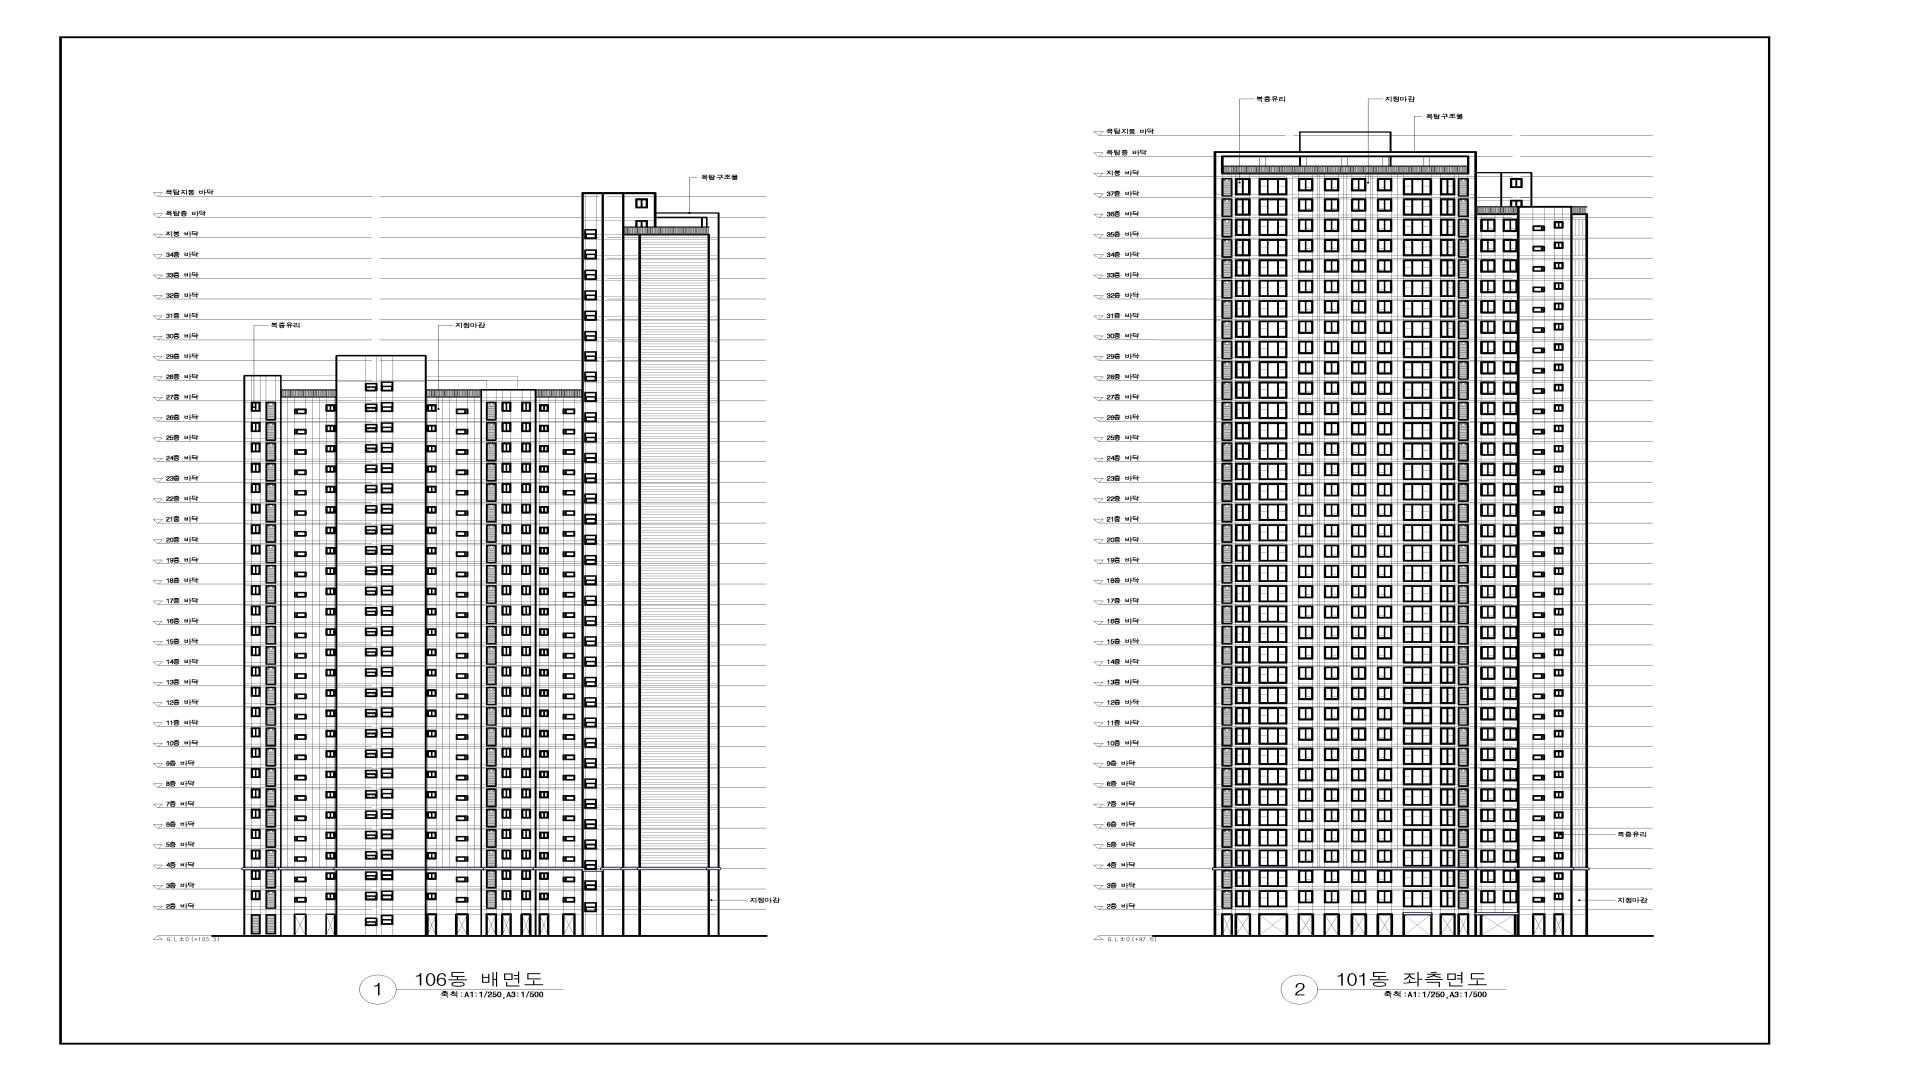door: (1480, 914, 1517, 935), (1258, 913, 1288, 935), (1402, 915, 1433, 935), (1297, 913, 1314, 935), (1323, 913, 1340, 935), (1350, 913, 1367, 935), (1376, 913, 1393, 935), (1235, 913, 1251, 935), (1440, 913, 1456, 935), (455, 913, 469, 936), (562, 913, 576, 936), (1532, 913, 1546, 935), (294, 914, 307, 936), (1457, 913, 1470, 935), (325, 913, 337, 936), (520, 913, 532, 936), (1221, 913, 1233, 935), (486, 913, 497, 936), (501, 913, 512, 936), (538, 913, 549, 936), (1553, 913, 1564, 935), (427, 913, 437, 936)
wall: (243, 192, 720, 937), (1214, 131, 1588, 937)
window: (1301, 155, 1391, 175), (1221, 155, 1300, 175), (1391, 155, 1469, 175), (1402, 381, 1432, 399), (1402, 442, 1432, 460), (1258, 259, 1288, 277), (1403, 198, 1432, 216), (1403, 259, 1432, 277), (1403, 300, 1432, 318), (1403, 361, 1432, 379), (1403, 503, 1432, 521), (1403, 524, 1432, 542), (1403, 544, 1432, 562), (1403, 605, 1432, 623), (1403, 646, 1432, 664), (1403, 666, 1432, 684), (1403, 707, 1432, 725), (1403, 727, 1432, 745), (1403, 788, 1432, 806), (1403, 849, 1432, 867), (1259, 198, 1288, 216), (1258, 300, 1287, 318), (1259, 320, 1288, 338), (1259, 361, 1288, 379), (1259, 422, 1288, 440), (1259, 483, 1288, 501), (1259, 524, 1288, 542), (1258, 544, 1287, 562), (1258, 768, 1287, 786), (1259, 788, 1288, 806), (1403, 483, 1433, 500), (1258, 280, 1288, 297), (1258, 341, 1288, 358), (1258, 443, 1288, 460), (1258, 504, 1288, 521), (1258, 667, 1288, 684), (1258, 687, 1288, 704), (1258, 707, 1288, 724), (1258, 178, 1288, 195), (1403, 219, 1432, 236), (1403, 239, 1432, 256), (1403, 280, 1432, 297), (1403, 321, 1432, 338), (1403, 341, 1432, 358), (1403, 402, 1432, 419), (1403, 422, 1432, 439), (1403, 463, 1432, 480), (1403, 565, 1432, 582), (1403, 585, 1432, 602), (1403, 626, 1432, 643), (1403, 687, 1432, 704), (1403, 748, 1432, 765), (1403, 768, 1432, 785), (1403, 809, 1432, 826), (1403, 829, 1432, 846), (1403, 870, 1432, 887), (1403, 890, 1432, 907), (1259, 219, 1288, 236), (1259, 239, 1288, 256), (1259, 382, 1288, 399), (1258, 402, 1287, 419), (1259, 463, 1288, 480), (1259, 565, 1288, 582), (1259, 585, 1288, 602), (1259, 606, 1288, 623), (1259, 626, 1288, 643), (1259, 646, 1288, 663), (1259, 728, 1288, 745), (1258, 748, 1287, 765), (1258, 809, 1287, 826), (1259, 829, 1288, 846), (1259, 850, 1288, 867), (1258, 870, 1287, 887), (1259, 890, 1288, 907), (1403, 178, 1432, 195), (1235, 198, 1251, 216), (1235, 259, 1251, 277), (1235, 300, 1251, 318), (1235, 320, 1251, 338), (1235, 361, 1251, 379), (1235, 381, 1251, 399), (1235, 422, 1251, 440), (1235, 442, 1251, 460), (1235, 483, 1251, 501), (1235, 503, 1251, 521), (1235, 524, 1251, 542), (1235, 666, 1251, 684), (1235, 707, 1251, 725), (1235, 788, 1251, 806), (1440, 198, 1456, 216), (1440, 239, 1456, 257), (1440, 259, 1456, 277), (1440, 320, 1456, 338), (1440, 361, 1456, 379), (1440, 381, 1456, 399), (1440, 524, 1456, 542), (1440, 666, 1456, 684), (1440, 707, 1456, 725), (1440, 768, 1456, 786), (1440, 788, 1456, 806), (1440, 178, 1456, 196), (1235, 178, 1251, 196), (1235, 219, 1251, 236), (1235, 239, 1251, 256), (1235, 280, 1251, 297), (1235, 341, 1251, 358), (1235, 402, 1251, 419), (1235, 463, 1251, 480), (1235, 545, 1251, 562), (1235, 565, 1251, 582), (1235, 585, 1251, 602), (1235, 606, 1251, 623), (1235, 626, 1251, 643), (1235, 646, 1251, 663), (1235, 687, 1251, 704), (1235, 728, 1251, 745), (1235, 748, 1251, 765), (1235, 768, 1251, 785), (1235, 809, 1251, 826), (1235, 829, 1251, 846), (1235, 850, 1251, 867), (1235, 870, 1251, 887), (1235, 890, 1251, 907), (1440, 219, 1456, 236), (1440, 280, 1456, 297), (1440, 300, 1456, 317), (1440, 341, 1456, 358), (1440, 402, 1456, 419), (1440, 545, 1456, 562), (1440, 585, 1456, 602), (1440, 728, 1456, 745), (1440, 748, 1456, 765), (1440, 809, 1456, 826), (1440, 850, 1456, 867), (1440, 870, 1456, 887), (1440, 422, 1455, 440), (1440, 442, 1455, 460), (1440, 483, 1455, 501), (1440, 605, 1455, 623), (1440, 646, 1455, 664), (1440, 890, 1455, 908), (1440, 463, 1455, 480), (1440, 504, 1455, 521), (1440, 565, 1455, 582), (1440, 626, 1455, 643), (1440, 687, 1455, 704), (1440, 829, 1455, 846), (1502, 768, 1520, 782), (1502, 829, 1520, 843), (1502, 585, 1520, 599), (1503, 218, 1520, 232), (1503, 646, 1520, 660), (1503, 666, 1520, 680), (1503, 707, 1520, 721), (1503, 788, 1520, 802), (1503, 869, 1520, 883), (1503, 259, 1520, 273), (1503, 300, 1520, 314), (1503, 361, 1520, 375), (1503, 381, 1520, 395), (1503, 422, 1520, 436), (1503, 442, 1520, 456), (1503, 483, 1520, 497), (1503, 503, 1520, 517), (1503, 524, 1520, 538), (1503, 605, 1520, 619), (1502, 687, 1520, 700), (1221, 259, 1233, 278), (1221, 442, 1233, 461), (1221, 483, 1233, 502), (1221, 565, 1233, 584), (1221, 707, 1233, 726), (1221, 178, 1233, 197), (1351, 198, 1367, 212), (1324, 198, 1340, 212), (1298, 198, 1314, 212), (1377, 300, 1393, 314), (1377, 320, 1393, 334), (1377, 361, 1393, 375), (1351, 218, 1367, 232), (1351, 259, 1367, 273), (1351, 300, 1367, 314), (1351, 341, 1367, 355), (1351, 361, 1367, 375), (1351, 381, 1367, 395), (1324, 259, 1340, 273), (1324, 320, 1340, 334), (1298, 218, 1314, 232), (1298, 239, 1314, 253), (1298, 259, 1314, 273), (1298, 300, 1314, 314), (1298, 320, 1314, 334), (1298, 361, 1314, 375), (1377, 422, 1393, 436), (1377, 442, 1393, 456), (1377, 462, 1393, 476), (1351, 402, 1367, 416), (1351, 422, 1367, 436), (1351, 442, 1367, 456), (1351, 462, 1367, 476), (1324, 381, 1340, 395), (1298, 381, 1314, 395), (1298, 442, 1314, 456), (1298, 483, 1314, 497), (1351, 503, 1367, 517), (1351, 565, 1367, 579), (1351, 585, 1367, 599), (1377, 707, 1393, 721), (1377, 727, 1393, 741), (1377, 768, 1393, 782), (1324, 727, 1340, 741), (1298, 788, 1314, 802), (1351, 890, 1367, 904), (1324, 849, 1340, 863), (1480, 239, 1496, 253), (1480, 259, 1496, 273), (1480, 300, 1496, 314), (1480, 320, 1496, 334), (1480, 361, 1496, 375), (1480, 381, 1496, 395), (1480, 422, 1496, 436), (1480, 442, 1496, 456), (1480, 544, 1496, 558), (1480, 605, 1496, 619), (1480, 646, 1496, 660), (1480, 727, 1496, 741), (1480, 768, 1496, 782), (1480, 788, 1496, 802), (1480, 829, 1496, 843), (1480, 890, 1496, 904), (1503, 626, 1520, 639), (1503, 728, 1520, 741), (1503, 748, 1520, 761), (1503, 809, 1520, 822), (1503, 850, 1520, 863), (1503, 890, 1520, 903), (1503, 239, 1520, 252), (1503, 280, 1520, 293), (1503, 321, 1520, 334), (1503, 341, 1520, 354), (1503, 402, 1520, 415), (1503, 463, 1520, 476), (1503, 545, 1520, 558), (1503, 565, 1520, 578), (265, 914, 276, 934), (1221, 545, 1233, 563), (1377, 198, 1392, 212), (1377, 259, 1392, 273), (1377, 381, 1392, 395), (1324, 361, 1339, 375), (1377, 503, 1392, 517), (1377, 524, 1392, 538), (1351, 524, 1366, 538), (1324, 422, 1339, 436), (1324, 442, 1339, 456), (1324, 483, 1339, 497), (1298, 422, 1313, 436), (1324, 524, 1339, 538), (1377, 585, 1392, 599), (1298, 646, 1313, 660), (1351, 727, 1366, 741), (1298, 890, 1313, 904), (1298, 178, 1313, 192), (265, 890, 276, 909), (265, 870, 276, 889), (265, 849, 276, 868), (265, 829, 276, 848), (265, 788, 276, 807), (265, 768, 276, 787), (265, 748, 276, 767), (265, 727, 276, 746), (265, 707, 276, 726), (265, 666, 276, 685), (265, 646, 276, 665), (265, 605, 276, 624), (265, 585, 276, 604), (265, 565, 276, 584), (265, 544, 276, 563), (265, 524, 276, 543), (265, 504, 276, 523), (265, 483, 276, 502), (265, 463, 276, 482), (265, 442, 276, 461), (265, 422, 276, 441), (265, 402, 276, 421), (486, 890, 497, 909), (486, 870, 497, 889), (486, 829, 497, 848), (486, 788, 497, 807), (486, 768, 497, 787), (486, 727, 497, 746), (486, 707, 497, 726), (486, 686, 497, 705), (486, 666, 497, 685), (486, 646, 497, 665), (486, 605, 497, 624), (486, 585, 497, 604), (486, 565, 497, 584), (486, 544, 497, 563), (486, 524, 497, 543), (486, 483, 497, 502), (486, 463, 497, 482), (486, 442, 497, 461), (486, 422, 497, 441), (486, 402, 497, 421), (1458, 239, 1469, 258), (1458, 259, 1469, 278), (1458, 280, 1469, 299), (1458, 300, 1469, 319), (1458, 320, 1469, 339), (1458, 341, 1469, 360), (1458, 361, 1469, 380), (1458, 381, 1469, 400), (1458, 402, 1469, 421), (1458, 422, 1469, 441), (1458, 442, 1469, 461), (1458, 463, 1469, 482), (1458, 483, 1469, 502), (1458, 504, 1469, 523), (1458, 524, 1469, 543), (1458, 565, 1469, 584), (1458, 585, 1469, 604), (1458, 605, 1469, 624), (1458, 646, 1469, 665), (1458, 666, 1469, 685), (1458, 707, 1469, 726), (1458, 727, 1469, 746), (1458, 748, 1469, 767), (1458, 768, 1469, 787), (1458, 788, 1469, 807), (1458, 809, 1469, 828), (1458, 829, 1469, 848), (1458, 849, 1469, 868), (1458, 870, 1469, 889), (1458, 890, 1469, 909), (1222, 198, 1233, 217), (1222, 219, 1233, 238), (1221, 239, 1232, 258), (1221, 280, 1232, 299), (1222, 300, 1233, 319), (1221, 320, 1232, 339), (1222, 341, 1233, 360), (1222, 361, 1233, 380), (1222, 422, 1233, 441), (1222, 463, 1233, 482), (1222, 524, 1233, 543), (1222, 585, 1233, 604), (1222, 605, 1233, 624), (1222, 626, 1233, 645), (1221, 646, 1232, 665), (1222, 666, 1233, 685), (1222, 727, 1233, 746), (1222, 748, 1233, 767), (1221, 768, 1232, 787), (1222, 809, 1233, 828), (1222, 829, 1233, 848), (1222, 849, 1233, 868), (1221, 870, 1232, 889), (1222, 890, 1233, 909), (1458, 178, 1469, 197), (1458, 198, 1469, 217), (1377, 219, 1393, 232), (1377, 239, 1393, 252), (1377, 280, 1393, 293), (1377, 341, 1393, 354), (1351, 239, 1367, 252), (1351, 280, 1367, 293), (1351, 321, 1367, 334), (1324, 219, 1340, 232), (1324, 239, 1340, 252), (1324, 341, 1340, 354), (1298, 280, 1314, 293), (1298, 341, 1314, 354), (1377, 402, 1393, 415), (1377, 483, 1393, 496), (1377, 545, 1393, 558), (1351, 483, 1367, 496), (1351, 545, 1367, 558), (1324, 463, 1340, 476), (1298, 402, 1314, 415), (1298, 463, 1314, 476), (1324, 504, 1340, 517), (1298, 504, 1314, 517), (1298, 524, 1314, 537), (1377, 626, 1393, 639), (1377, 646, 1393, 659), (1377, 667, 1393, 680), (1351, 606, 1367, 619), (1351, 626, 1367, 639), (1351, 667, 1367, 680), (1324, 545, 1340, 558), (1324, 565, 1340, 578), (1324, 606, 1340, 619), (1324, 626, 1340, 639), (1324, 667, 1340, 680), (1298, 545, 1314, 558), (1298, 565, 1314, 578), (1298, 606, 1314, 619), (1298, 626, 1314, 639), (1298, 667, 1314, 680), (1377, 687, 1393, 700), (1351, 687, 1367, 700), (1351, 707, 1367, 720), (1351, 748, 1367, 761), (1351, 768, 1367, 781), (1351, 789, 1367, 802), (1351, 809, 1367, 822), (1324, 687, 1340, 700), (1324, 748, 1340, 761), (1324, 768, 1340, 781), (1324, 789, 1340, 802), (1324, 809, 1340, 822), (1298, 687, 1314, 700), (1298, 728, 1314, 741), (1298, 809, 1314, 822), (1351, 829, 1367, 842), (1351, 850, 1367, 863), (1351, 870, 1367, 883), (1324, 870, 1340, 883), (1324, 890, 1340, 903), (1298, 850, 1314, 863), (1480, 219, 1496, 232), (1480, 280, 1496, 293), (1480, 341, 1496, 354), (1480, 402, 1496, 415), (1480, 463, 1496, 476), (1480, 483, 1496, 496), (1480, 504, 1496, 517), (1480, 524, 1496, 537), (1480, 565, 1496, 578), (1480, 585, 1496, 598), (1480, 626, 1496, 639), (1480, 667, 1496, 680), (1480, 687, 1496, 700), (1480, 707, 1496, 720), (1480, 748, 1496, 761), (1480, 809, 1496, 822), (1480, 850, 1496, 863), (1480, 870, 1496, 883), (251, 914, 261, 934), (265, 809, 276, 827), (265, 687, 276, 705), (265, 626, 276, 644), (486, 850, 497, 868), (486, 809, 497, 827), (486, 748, 497, 766), (486, 626, 497, 644), (486, 504, 497, 522), (1458, 545, 1469, 563), (1458, 626, 1469, 644), (1458, 687, 1469, 705), (1222, 382, 1233, 400), (1222, 402, 1233, 420), (1221, 504, 1232, 522), (1222, 687, 1233, 705), (1222, 789, 1233, 807), (1458, 219, 1469, 237), (1324, 280, 1339, 293), (1324, 300, 1339, 313), (1377, 565, 1392, 578), (1324, 402, 1339, 415), (1377, 606, 1392, 619), (1351, 646, 1366, 659), (1324, 585, 1339, 598), (1324, 647, 1339, 660), (1298, 585, 1313, 598), (1377, 748, 1392, 761), (1377, 789, 1392, 802), (1377, 809, 1392, 822), (1324, 707, 1339, 720), (1298, 707, 1313, 720), (1298, 748, 1313, 761), (1298, 768, 1313, 781), (1377, 829, 1392, 842), (1377, 850, 1392, 863), (1377, 870, 1392, 883), (1377, 891, 1392, 904), (1324, 829, 1339, 842), (1298, 829, 1313, 842), (1298, 870, 1313, 883), (1377, 178, 1392, 191), (1351, 178, 1366, 191), (1324, 178, 1339, 191), (381, 890, 394, 901), (381, 646, 394, 657), (584, 839, 597, 850), (584, 656, 597, 667), (584, 493, 597, 504), (584, 432, 597, 443), (584, 351, 597, 362), (381, 788, 393, 799), (381, 585, 393, 596), (381, 524, 393, 535), (381, 381, 393, 392), (381, 915, 394, 925), (381, 870, 394, 880), (381, 707, 394, 717), (380, 667, 393, 677), (380, 463, 393, 473), (381, 443, 394, 453), (380, 422, 393, 432), (584, 902, 597, 912), (584, 880, 597, 890), (584, 860, 597, 870), (584, 819, 597, 829), (584, 799, 597, 809), (584, 778, 597, 788), (584, 758, 597, 768), (584, 738, 597, 748), (584, 717, 597, 727), (584, 697, 597, 707), (584, 677, 597, 687), (584, 636, 597, 646), (584, 616, 597, 626), (584, 596, 597, 606), (584, 575, 597, 585), (584, 555, 597, 565), (584, 535, 597, 545), (584, 514, 597, 524), (584, 473, 597, 483), (584, 453, 597, 463), (584, 412, 597, 422), (584, 392, 597, 402), (584, 372, 597, 382), (584, 331, 597, 341), (584, 311, 597, 321), (584, 290, 597, 300), (584, 270, 597, 280), (584, 249, 597, 259), (584, 229, 597, 239), (635, 198, 648, 208), (1510, 178, 1523, 188), (381, 850, 393, 860), (381, 829, 393, 839), (381, 809, 393, 819), (381, 768, 393, 778), (381, 748, 393, 758), (381, 728, 393, 738), (381, 687, 393, 697), (381, 626, 393, 636), (381, 606, 393, 616), (381, 565, 393, 575), (381, 545, 393, 555), (381, 504, 393, 514), (381, 483, 393, 493), (381, 402, 393, 412), (365, 917, 378, 926), (365, 810, 378, 819), (365, 790, 378, 799), (365, 668, 378, 677), (365, 607, 378, 616), (365, 566, 378, 575), (365, 546, 378, 555), (365, 464, 378, 473), (501, 544, 511, 555), (501, 503, 511, 514), (521, 544, 531, 555), (251, 849, 261, 860), (251, 808, 261, 819), (251, 666, 261, 677), (251, 605, 261, 616), (251, 544, 261, 555), (251, 462, 261, 473), (501, 849, 511, 860), (501, 808, 511, 819), (365, 403, 377, 412), (365, 871, 377, 880), (365, 851, 377, 860), (365, 749, 377, 758), (365, 729, 377, 738), (365, 505, 377, 514), (365, 444, 377, 453), (365, 383, 378, 391), (635, 220, 648, 228), (365, 892, 378, 900), (365, 831, 378, 839), (365, 689, 378, 697), (365, 485, 378, 493), (365, 424, 378, 432), (501, 565, 511, 575), (501, 524, 511, 534), (501, 483, 511, 493), (501, 463, 511, 473), (501, 442, 511, 452), (501, 422, 511, 432), (501, 402, 511, 412), (521, 402, 531, 412), (521, 890, 531, 900), (521, 870, 531, 880), (521, 850, 531, 860), (521, 829, 531, 839), (521, 809, 531, 819), (521, 788, 531, 798), (521, 768, 531, 778), (521, 748, 531, 758), (521, 727, 531, 737), (521, 707, 531, 717), (521, 687, 531, 697), (521, 666, 531, 676), (521, 646, 531, 656), (521, 626, 531, 636), (521, 605, 531, 615), (521, 585, 531, 595), (521, 565, 531, 575), (521, 524, 531, 534), (521, 504, 531, 514), (521, 483, 531, 493), (521, 463, 531, 473), (521, 442, 531, 452), (521, 422, 531, 432), (251, 890, 261, 900), (251, 870, 261, 880), (251, 829, 261, 839), (251, 788, 261, 798), (251, 768, 261, 778), (251, 748, 261, 758), (251, 727, 261, 737), (251, 707, 261, 717), (251, 687, 261, 697), (251, 646, 261, 656), (251, 626, 261, 636), (251, 585, 261, 595), (251, 565, 261, 575), (251, 524, 261, 534), (251, 504, 261, 514), (251, 483, 261, 493), (251, 442, 261, 452), (251, 422, 261, 432), (251, 402, 261, 412), (501, 890, 511, 900), (501, 870, 511, 880), (501, 829, 511, 839), (501, 788, 511, 798), (501, 768, 511, 778), (501, 748, 511, 758), (501, 727, 511, 737), (501, 707, 511, 717), (501, 687, 511, 697), (501, 666, 511, 676), (501, 646, 511, 656), (501, 626, 511, 636), (501, 605, 511, 615), (501, 585, 511, 595), (365, 770, 377, 778), (365, 709, 377, 717), (365, 648, 377, 656), (365, 628, 377, 636), (365, 587, 377, 595), (365, 526, 377, 534), (1510, 200, 1523, 207), (325, 852, 336, 860), (426, 811, 437, 819), (426, 770, 437, 778), (426, 608, 437, 616), (426, 567, 437, 575), (426, 506, 437, 514), (539, 506, 549, 514), (539, 465, 549, 473), (539, 445, 549, 453), (539, 404, 549, 412), (325, 872, 335, 880), (325, 811, 335, 819), (325, 750, 335, 758), (325, 709, 335, 717), (325, 689, 335, 697), (325, 648, 335, 656), (325, 628, 335, 636), (325, 608, 335, 616), (325, 567, 335, 575), (325, 547, 335, 555), (325, 506, 335, 514), (325, 465, 335, 473), (325, 445, 335, 453), (325, 404, 335, 412), (427, 872, 437, 880), (427, 852, 437, 860), (427, 750, 437, 758), (427, 709, 437, 717), (427, 689, 437, 697), (427, 628, 437, 636), (427, 547, 437, 555), (427, 465, 437, 473), (427, 445, 437, 453), (427, 404, 437, 412), (539, 892, 549, 900), (539, 872, 549, 880), (539, 852, 549, 860), (539, 811, 549, 819), (539, 791, 549, 799), (539, 750, 549, 758), (539, 709, 549, 717), (539, 689, 549, 697), (539, 628, 549, 636), (539, 608, 549, 616), (539, 567, 549, 575), (539, 547, 549, 555), (1554, 221, 1564, 229), (1554, 282, 1564, 290), (1554, 323, 1564, 331), (1554, 343, 1564, 351), (1554, 404, 1564, 412), (1554, 445, 1564, 453), (1554, 465, 1564, 473), (1554, 506, 1564, 514), (1554, 547, 1564, 555), (1554, 567, 1564, 575), (1554, 608, 1564, 616), (1554, 628, 1564, 636), (1554, 669, 1564, 677), (1554, 689, 1564, 697), (1554, 730, 1564, 738), (1554, 750, 1564, 758), (1554, 791, 1564, 799), (1554, 811, 1564, 819), (1554, 852, 1564, 860), (1554, 872, 1564, 880), (294, 897, 307, 903), (294, 876, 307, 882), (294, 856, 307, 862), (294, 836, 307, 842), (294, 815, 307, 821), (294, 795, 307, 801), (294, 754, 307, 760), (294, 734, 307, 740), (294, 714, 307, 720), (294, 693, 307, 699), (294, 673, 307, 679), (294, 653, 307, 659), (294, 632, 307, 638), (294, 612, 307, 618), (294, 592, 307, 598), (294, 571, 307, 577), (294, 551, 307, 557), (294, 531, 307, 537), (294, 510, 307, 516), (294, 490, 307, 496), (294, 469, 307, 475), (294, 449, 307, 455), (294, 429, 307, 435), (294, 408, 307, 414), (562, 897, 575, 903), (562, 856, 575, 862), (562, 836, 575, 842), (562, 815, 575, 821), (562, 795, 575, 801), (562, 775, 575, 781), (562, 754, 575, 760), (562, 734, 575, 740), (562, 714, 575, 720), (562, 693, 575, 699), (562, 653, 575, 659), (562, 632, 575, 638), (562, 612, 575, 618), (562, 592, 575, 598), (562, 551, 575, 557), (562, 531, 575, 537), (562, 510, 575, 516), (562, 490, 575, 496), (562, 469, 575, 475), (562, 449, 575, 455), (562, 429, 575, 435), (1532, 225, 1545, 231), (1532, 246, 1545, 252), (1532, 266, 1545, 272), (1532, 287, 1545, 293), (1532, 307, 1545, 313), (1532, 327, 1545, 333), (1532, 348, 1545, 354), (1532, 368, 1545, 374), (1532, 388, 1545, 394), (1532, 409, 1545, 415), (1532, 429, 1545, 435), (1532, 469, 1545, 475), (1532, 490, 1545, 496), (1532, 510, 1545, 516), (1532, 531, 1545, 537), (1532, 592, 1545, 598), (1532, 612, 1545, 618), (1532, 653, 1545, 659), (1532, 673, 1545, 679), (1532, 693, 1545, 699), (1532, 714, 1545, 720), (1532, 754, 1545, 760), (1532, 775, 1545, 781), (1532, 795, 1545, 801), (1532, 836, 1545, 842), (1532, 856, 1545, 862), (1532, 877, 1545, 883), (426, 791, 437, 798), (426, 669, 437, 676), (426, 425, 437, 432), (456, 897, 468, 903), (456, 856, 468, 862), (456, 836, 468, 842), (456, 815, 468, 821), (456, 795, 468, 801), (456, 754, 468, 760), (456, 734, 468, 740), (456, 714, 468, 720), (456, 693, 468, 699), (456, 673, 468, 679), (456, 653, 468, 659), (456, 632, 468, 638), (456, 612, 468, 618), (456, 592, 468, 598), (456, 551, 468, 557), (456, 531, 468, 537), (456, 510, 468, 516), (456, 490, 468, 496), (456, 469, 468, 475), (456, 449, 468, 455), (456, 429, 468, 435), (456, 408, 468, 414), (563, 673, 575, 679), (563, 408, 575, 414), (1533, 449, 1545, 455), (1533, 551, 1545, 557), (1533, 734, 1545, 740), (1533, 815, 1545, 821), (1533, 897, 1545, 903), (539, 486, 549, 493), (539, 425, 549, 432), (325, 893, 335, 900), (325, 832, 335, 839), (325, 791, 335, 798), (325, 771, 335, 778), (325, 730, 335, 737), (325, 669, 335, 676), (325, 588, 335, 595), (325, 527, 335, 534), (325, 486, 335, 493), (325, 425, 335, 432), (427, 893, 437, 900), (427, 832, 437, 839), (427, 730, 437, 737), (427, 649, 437, 656), (427, 588, 437, 595), (427, 527, 437, 534), (427, 486, 437, 493), (539, 832, 549, 839), (539, 771, 549, 778), (539, 730, 549, 737), (539, 669, 549, 676), (539, 649, 549, 656), (539, 588, 549, 595), (539, 527, 549, 534), (1554, 242, 1564, 249), (1554, 262, 1564, 269), (1554, 303, 1564, 310), (1554, 364, 1564, 371), (1554, 384, 1564, 391), (1554, 425, 1564, 432), (1554, 486, 1564, 493), (1554, 527, 1564, 534), (1554, 588, 1564, 595), (1554, 649, 1564, 656), (1554, 710, 1564, 717), (1554, 771, 1564, 778), (1554, 832, 1564, 839), (1554, 893, 1564, 900), (294, 775, 307, 780), (562, 877, 575, 882), (1532, 572, 1545, 577), (1532, 633, 1545, 638), (456, 877, 468, 882), (456, 775, 468, 780), (456, 572, 468, 577), (563, 572, 575, 577)
